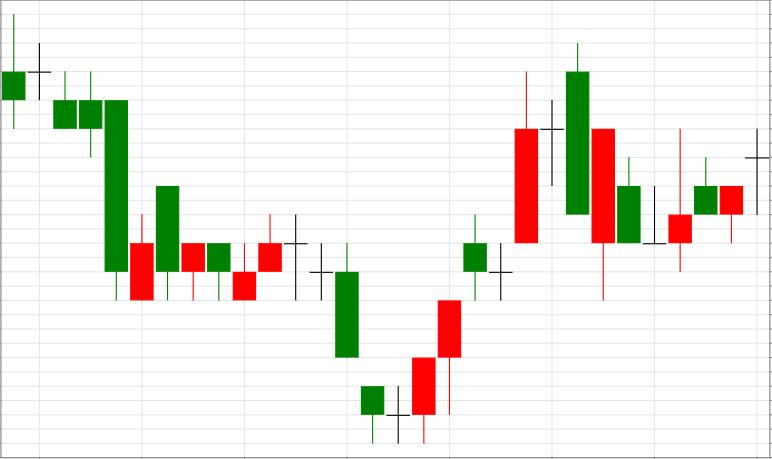morning_star_rise: (284, 214, 436, 444)
